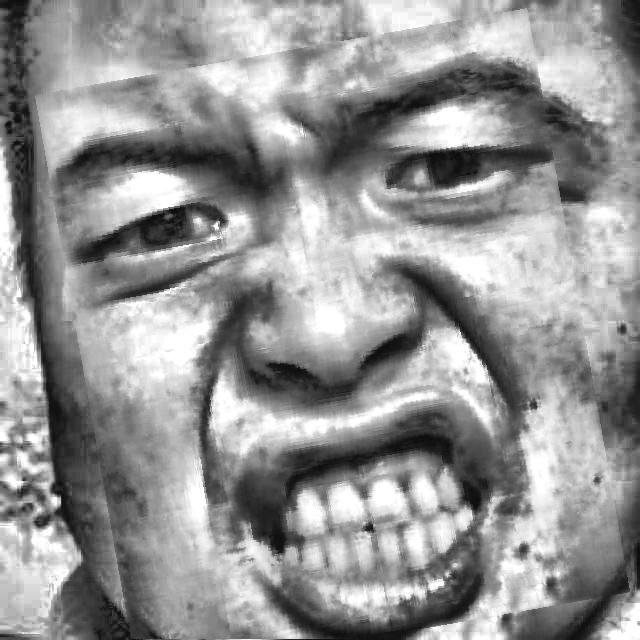angry: (59, 27, 606, 640)
